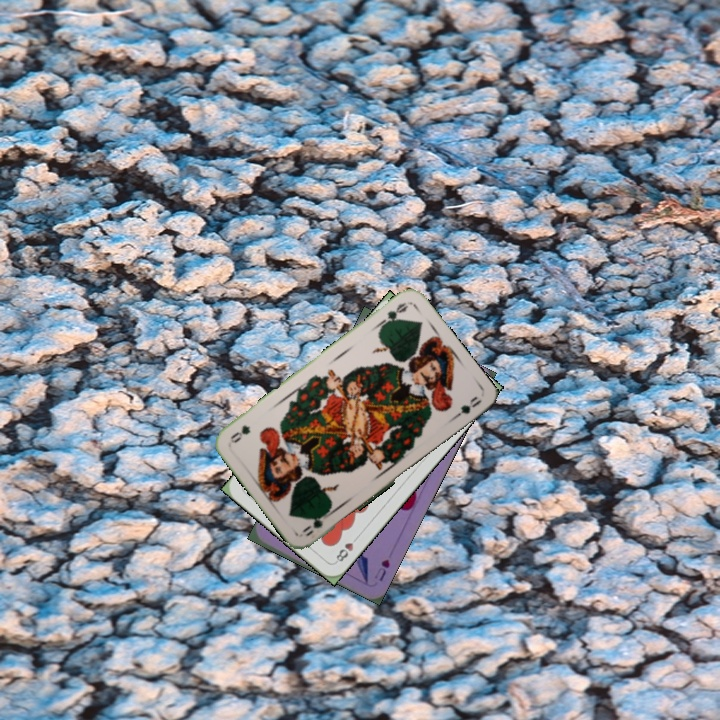GO: (375, 298, 411, 331), (298, 507, 334, 539)
H8: (331, 532, 361, 566)
HU: (370, 555, 392, 584)
